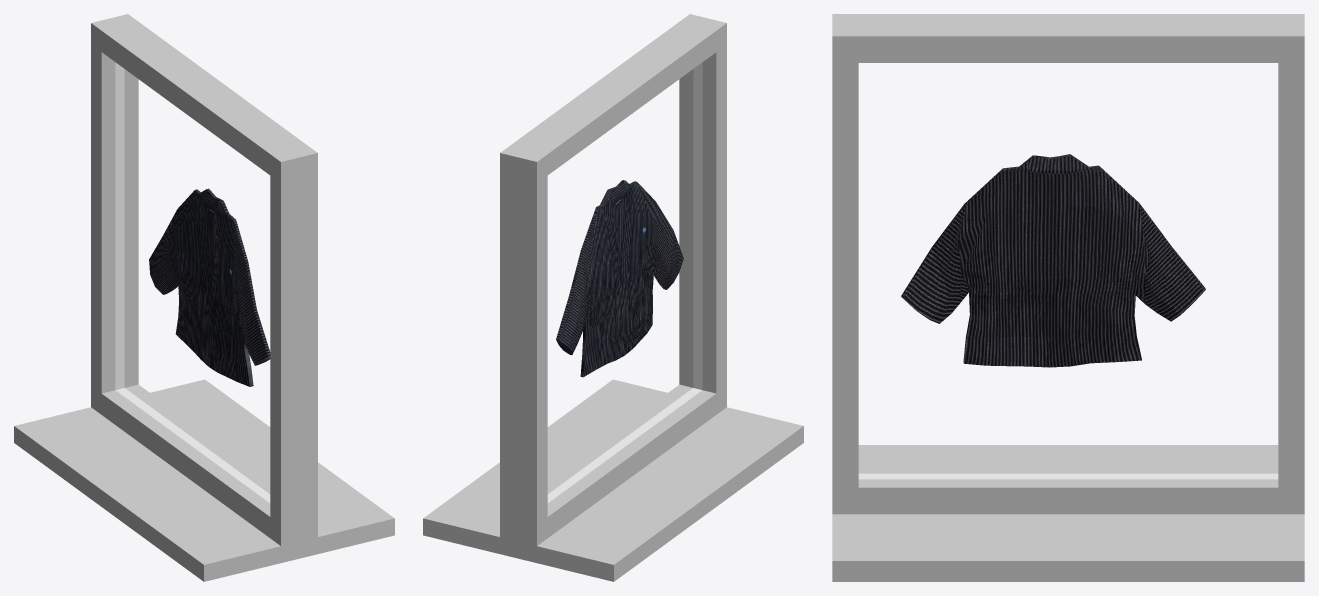
Rendered from kimono_wabash.glb.
3 views of the same model, side by side, from view 1: azimuth 30°, elevation 25°; view 2: azimuth 150°, elevation 25°; view 3: azimuth 270°, elevation 25° (orthographic). The views are drawn at different scales.
Visible parts, largest first — view 1: Cube.029, Plane.024; view 2: Cube.029, Plane.024; view 3: Cube.029, Plane.024.
Boxes of the visible parts, left/top/right/bottom form: Cube.029: left=14, top=14, right=394, bottom=581; Plane.024: left=149, top=188, right=270, bottom=386; Cube.029: left=423, top=14, right=803, bottom=581; Plane.024: left=556, top=180, right=683, bottom=377; Cube.029: left=832, top=14, right=1304, bottom=581; Plane.024: left=901, top=154, right=1205, bottom=367.
Bounding box in the file's own units: 0.362 × 0.7276 × 0.6242.
Materials: 3 (1 with a texture image).
